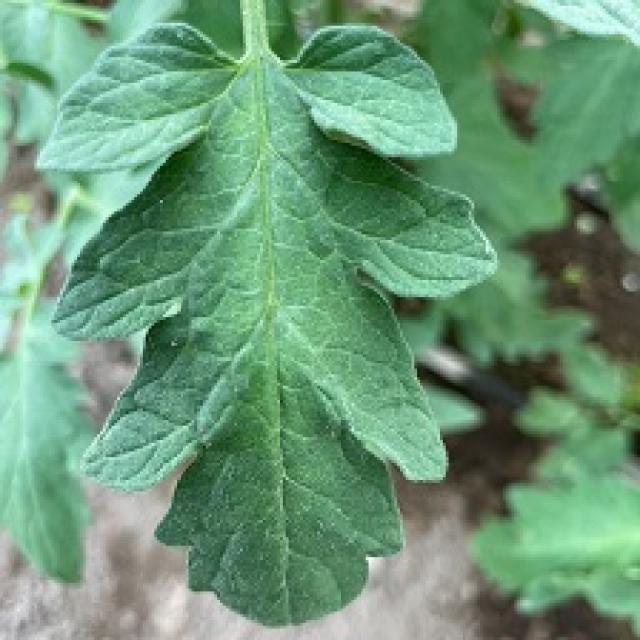Healthy: (0, 0, 566, 640)
